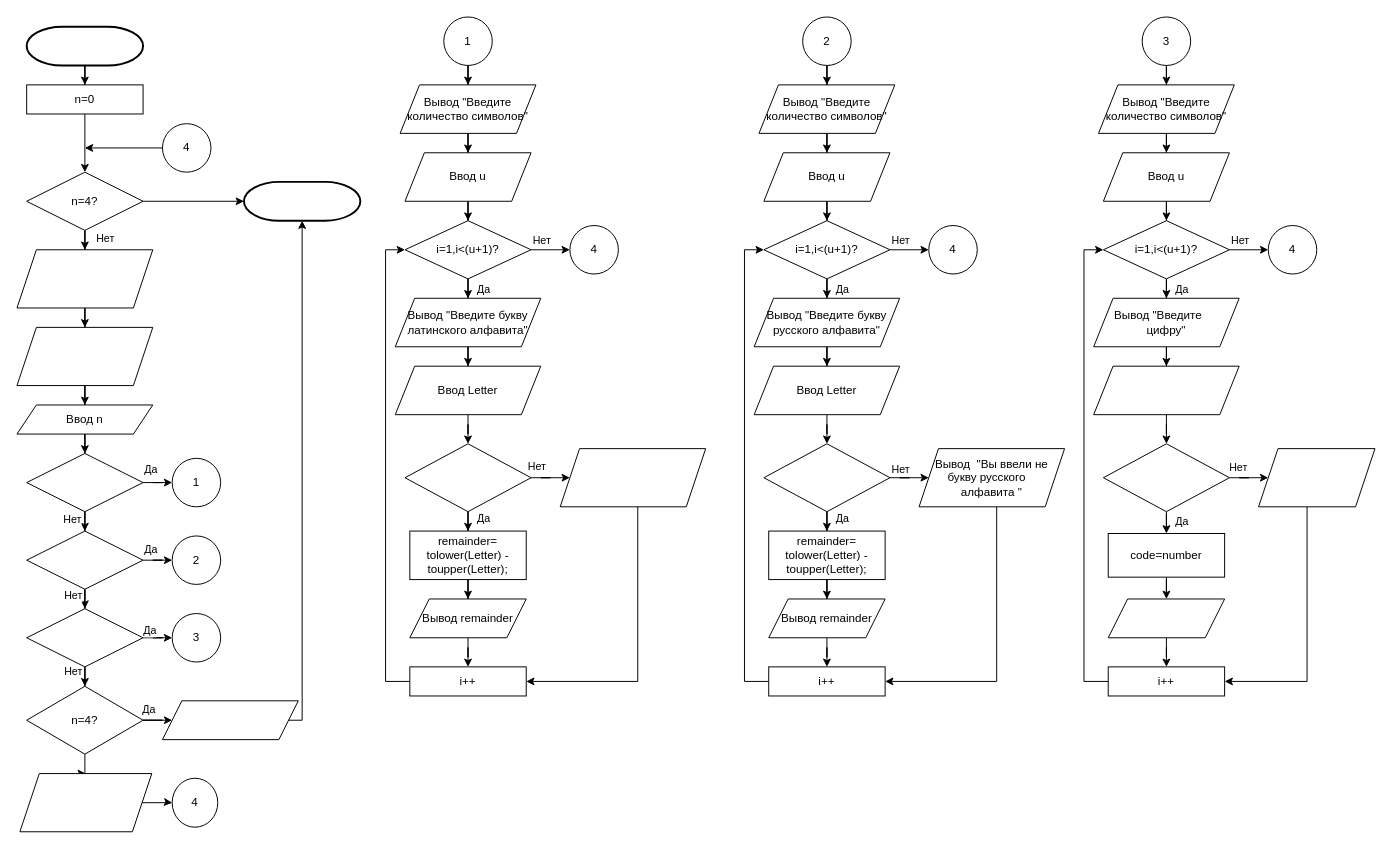
Image size: 1392x849. Some labels were removed from this diagram. The box of each missing label's shape, as (x1, y1, x2, y2) in pixels:
'1'<=number<='9'?: (1102, 443, 1229, 512)
'A'<=Letter<='z'?: (404, 443, 531, 512)
'A'<=Letter<='я'?: (763, 443, 890, 512)
n=1?: (26, 453, 143, 512)
n=2?: (26, 530, 143, 589)
n=3?: (26, 608, 143, 667)
Ввод number: (1093, 365, 1239, 415)
Вывод "Введите номер от 1 до 4": (16, 326, 153, 386)
Вывод "Вы ввели не букву латинского алфавита ": (559, 448, 706, 507)
Вывод "Код символа" code: (1107, 598, 1225, 638)
Вывод "Нет такой программы": (19, 773, 152, 832)
Вывод "Программа завершена": (162, 700, 298, 740)
Вывод "Это не цифра ": (1258, 448, 1375, 507)
Вывод условия программы: (16, 249, 153, 308)
Конец: (242, 180, 361, 221)
Начало: (25, 25, 144, 66)
